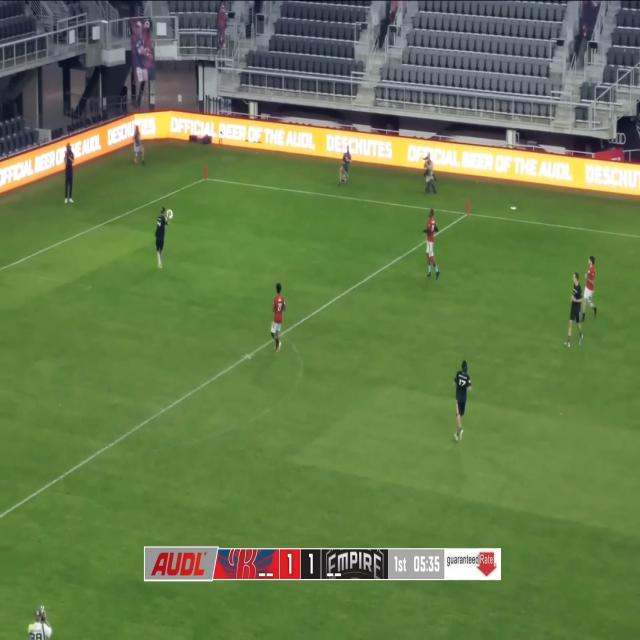Disc: (166, 209, 173, 219), (511, 207, 516, 210)
Player: (451, 361, 473, 444), (564, 271, 583, 348), (270, 284, 288, 352), (154, 208, 173, 271), (424, 209, 440, 281), (582, 256, 598, 319)
